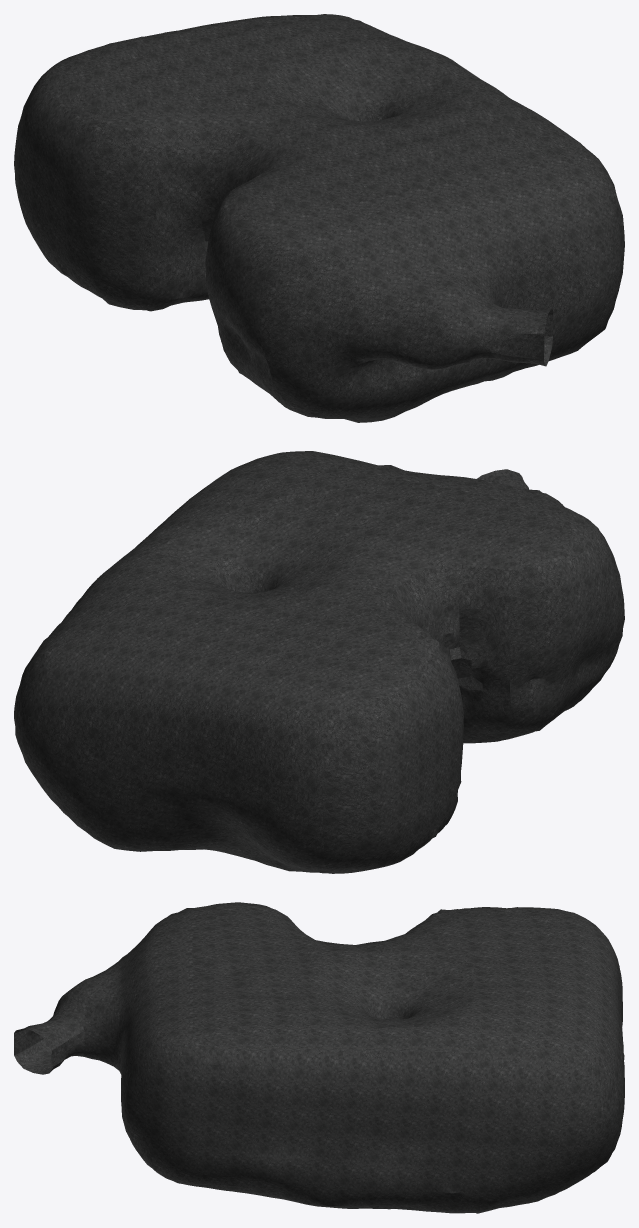
The model's file is LargeCaveRoom1.glb.
The picture shows the model from 3 angles, top to bottom: view 1: azimuth 30°, elevation 25°; view 2: azimuth 150°, elevation 25°; view 3: azimuth 270°, elevation 25°; orthographic projection. The views are drawn at different scales.
Parts seen in each view (by area): view 1: Cube.011; view 2: Cube.011; view 3: Cube.011.
Boxes of the visible parts, x1,y1,x2,y2 form: Cube.011: (14, 14, 624, 422); Cube.011: (14, 451, 624, 873); Cube.011: (14, 902, 624, 1213).
Bounding box in the file's own units: 53.88 × 30.37 × 84.79.
Materials: 1 (1 with a texture image).
